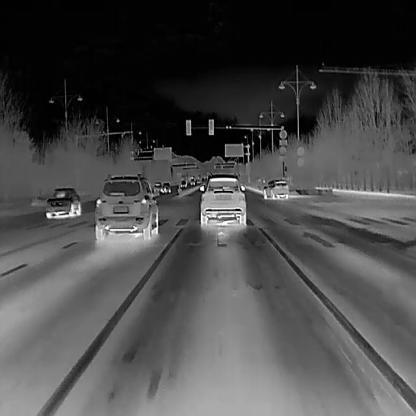car: (94, 173, 158, 241), (199, 172, 246, 229), (44, 186, 81, 218), (263, 179, 288, 199), (151, 181, 160, 193), (161, 181, 169, 191), (180, 179, 185, 187)
